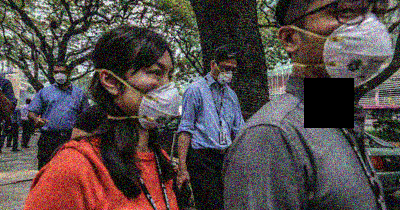with_mask: (299, 1, 395, 88), (120, 61, 182, 129), (216, 64, 238, 86), (52, 68, 68, 85)
